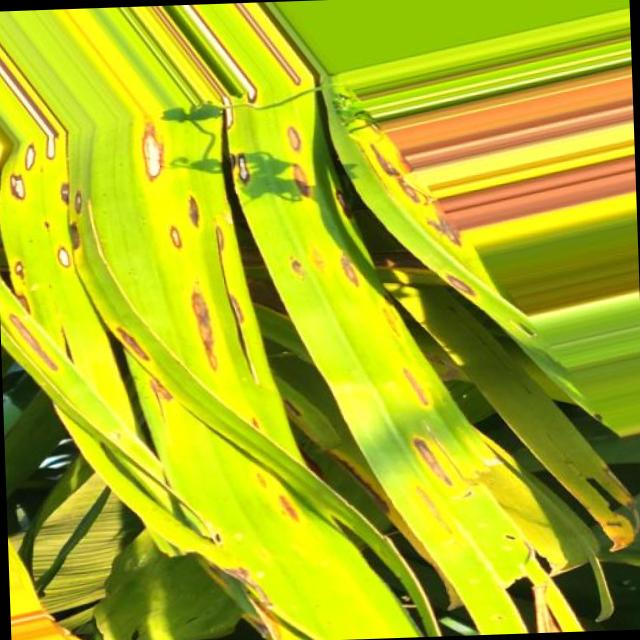Banana_Yellow_Sigatoka: (0, 87, 505, 390), (192, 444, 640, 640)
